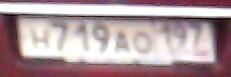license-plateSW: (16, 14, 215, 64)
